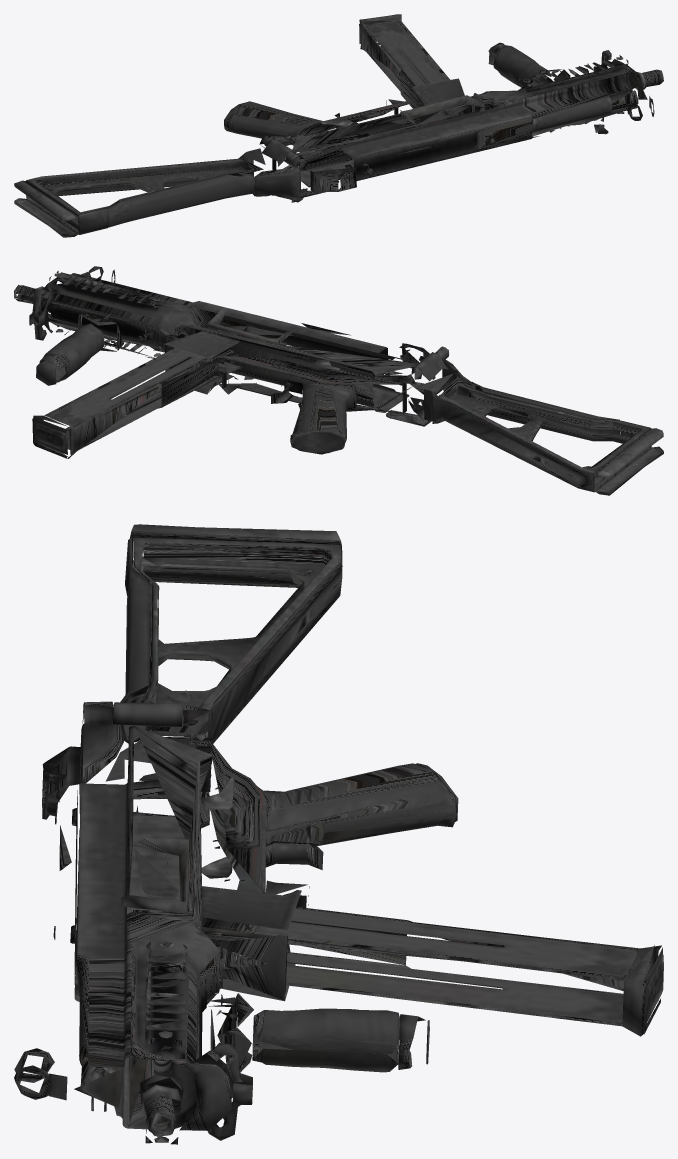
File: p_ump45.glb
The picture shows the model from 3 angles, top to bottom: view 1: azimuth 30°, elevation 25°; view 2: azimuth 150°, elevation 25°; view 3: azimuth 270°, elevation 25°; orthographic projection. The views are drawn at different scales.
Visible parts, largest first — view 1: p_ump45; view 2: p_ump45; view 3: p_ump45.
Boxes of the visible parts, x1=… form: p_ump45: x1=14, y1=14, x2=663, y2=237; p_ump45: x1=14, y1=266, x2=663, y2=495; p_ump45: x1=14, y1=524, x2=663, y2=1144.
Size of the model in its own units: 0.7842 by 0.0721 by 0.3702.
1 material, 1 textured.
